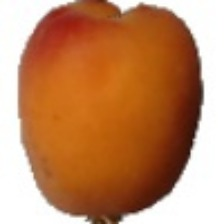apricot: (14, 30, 185, 200)
